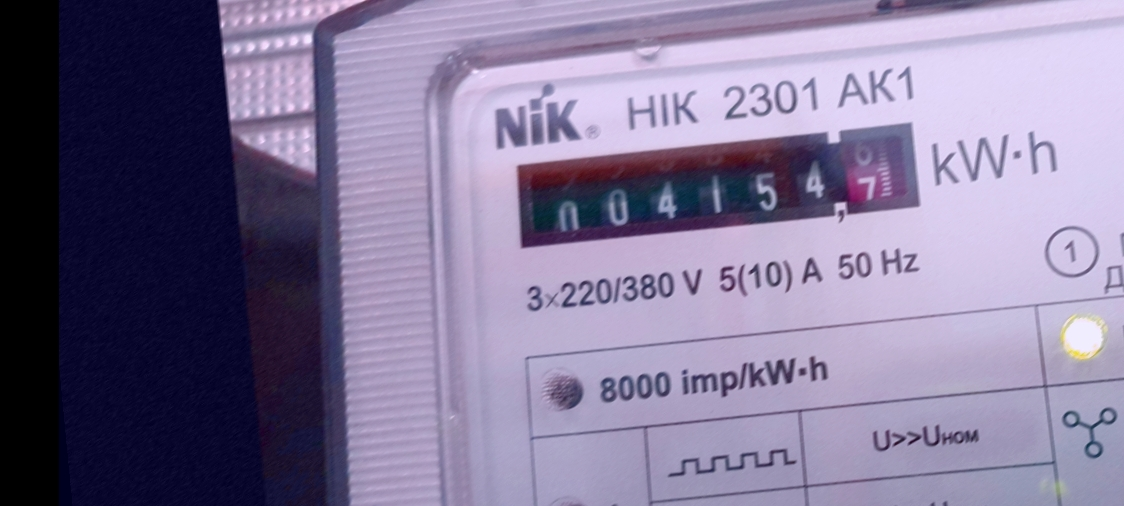0: (603, 186, 630, 229), (554, 197, 580, 233)
1: (707, 173, 724, 216)
4: (652, 179, 679, 222), (801, 156, 825, 202)
5: (752, 168, 780, 214)
6: (850, 137, 875, 169)
7: (854, 173, 877, 204)
screen: (495, 108, 938, 264)
